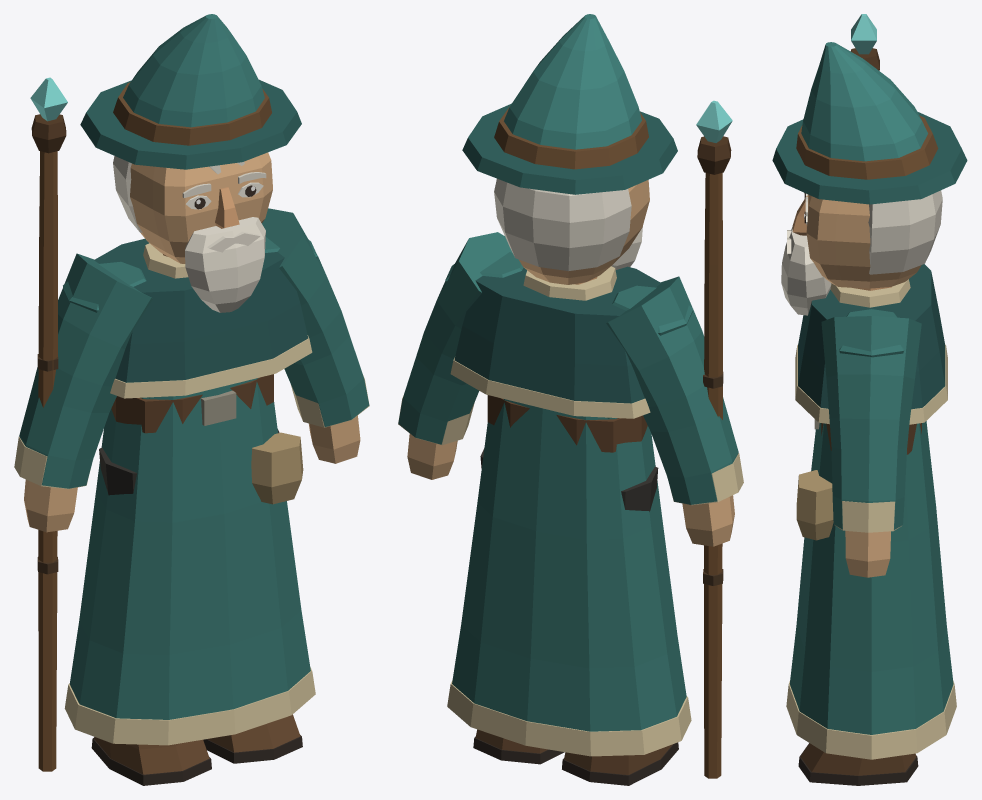
File: mage-common.obj
3 renders of one model, left to right at view 1: azimuth 30°, elevation 25°; view 2: azimuth 150°, elevation 25°; view 3: azimuth 270°, elevation 25°, orthographic. The views are drawn at different scales.
Parts seen in each view (by area): view 1: etek, kollar, pelerin, sapka, asa, kafa, sapka-kenari, etek-kenari, sakal, cizmeler, eller, sapka-bandi (+12 smaller); view 2: etek, kollar, pelerin, sapka, sac, asa, sapka-kenari, etek-kenari, eller, sapka-bandi, pelerin-kenari, kemer (+8 smaller); view 3: etek, kollar, sapka, pelerin, sapka-kenari, kafa, sac, etek-kenari, sapka-bandi, sakal, kese, cizmeler (+7 smaller).
Part boxes in pixels (x1=…): etek: x1=69, y1=378, x2=310, y2=719; kollar: x1=19, y1=208, x2=369, y2=488; pelerin: x1=94, y1=238, x2=308, y2=382; sapka: x1=123, y1=14, x2=264, y2=127; asa: x1=38, y1=151, x2=57, y2=771; kafa: x1=130, y1=152, x2=272, y2=263; sapka-kenari: x1=80, y1=79, x2=301, y2=169; etek-kenari: x1=64, y1=667, x2=315, y2=745; sakal: x1=185, y1=217, x2=265, y2=312; cizmeler: x1=94, y1=714, x2=300, y2=774; eller: x1=24, y1=415, x2=360, y2=532; sapka-bandi: x1=113, y1=82, x2=271, y2=145; etek: x1=452, y1=399, x2=686, y2=731; kollar: x1=398, y1=232, x2=738, y2=504; pelerin: x1=454, y1=266, x2=660, y2=403; sapka: x1=504, y1=14, x2=641, y2=149; sac: x1=494, y1=178, x2=631, y2=271; asa: x1=704, y1=173, x2=722, y2=778; sapka-kenari: x1=462, y1=103, x2=677, y2=194; etek-kenari: x1=447, y1=680, x2=691, y2=756; eller: x1=407, y1=434, x2=734, y2=546; sapka-bandi: x1=494, y1=106, x2=648, y2=169; pelerin-kenari: x1=450, y1=357, x2=650, y2=418; kemer: x1=487, y1=395, x2=647, y2=452; etek: x1=789, y1=421, x2=953, y2=734; kollar: x1=821, y1=309, x2=921, y2=529; sapka: x1=801, y1=42, x2=927, y2=161; pelerin: x1=798, y1=264, x2=945, y2=409; sapka-kenari: x1=772, y1=111, x2=967, y2=204; kafa: x1=806, y1=194, x2=921, y2=288; sac: x1=868, y1=190, x2=942, y2=274; etek-kenari: x1=786, y1=680, x2=956, y2=759; sapka-bandi: x1=796, y1=115, x2=938, y2=179; sakal: x1=781, y1=227, x2=831, y2=315; kese: x1=796, y1=470, x2=833, y2=540; cizmeler: x1=800, y1=743, x2=916, y2=775.
Size of the model in its own units: 22.72 by 46.8 by 11.8.
